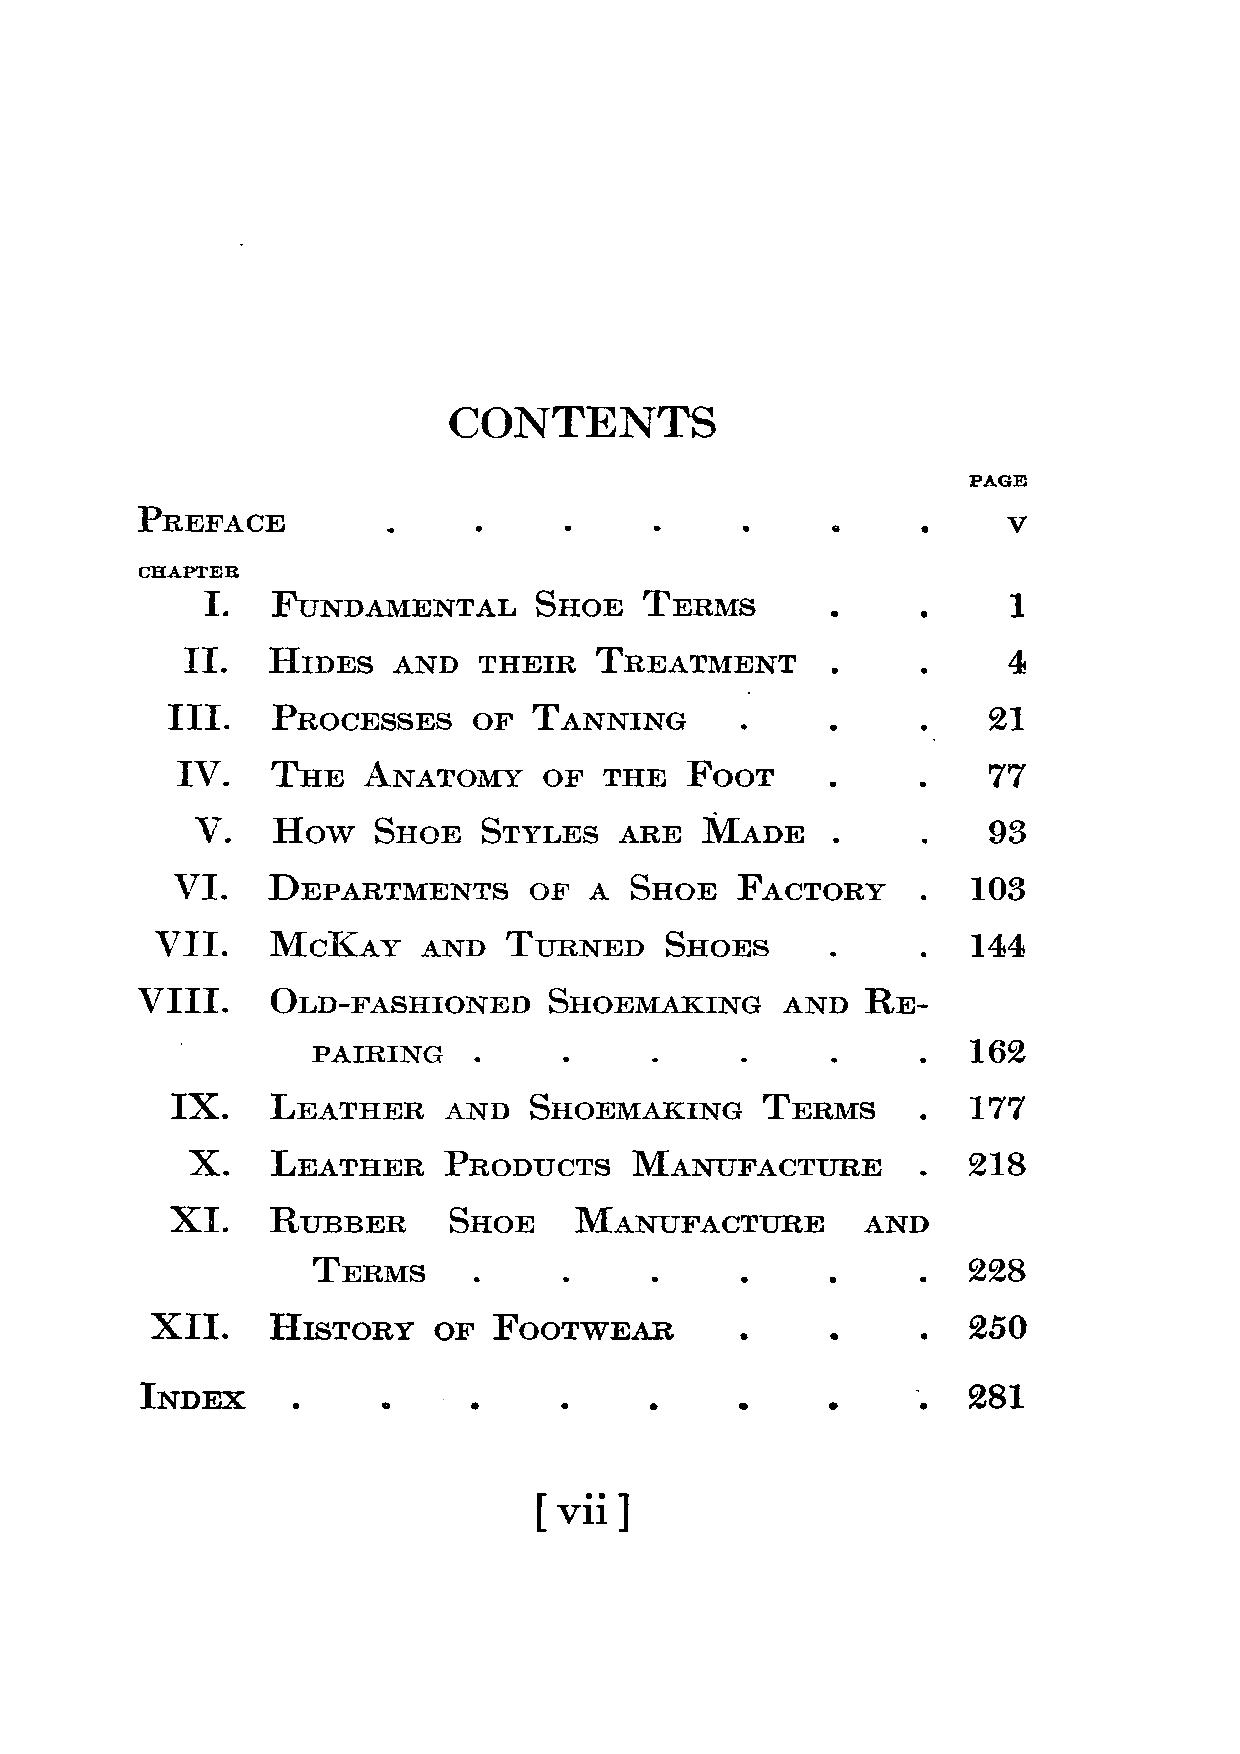TOC_chapter: (132, 982, 935, 1070), (162, 1198, 938, 1286), (166, 867, 895, 909), (174, 635, 807, 679), (169, 1084, 884, 1122), (197, 582, 772, 625), (150, 1304, 688, 1350), (169, 754, 777, 794), (185, 1142, 882, 1177), (191, 812, 807, 851), (153, 925, 772, 961), (161, 694, 688, 735), (130, 499, 297, 539), (133, 1373, 250, 1417)
TOC_pagenumber: (958, 1252, 1031, 1290), (966, 925, 1037, 960), (964, 1090, 1031, 1125), (965, 1311, 1033, 1345), (965, 1033, 1031, 1068), (964, 1149, 1029, 1181), (964, 1380, 1024, 1414), (968, 874, 1031, 905), (986, 815, 1027, 847), (981, 761, 1029, 786), (984, 705, 1027, 733), (1002, 641, 1033, 680), (1006, 509, 1035, 538), (1006, 588, 1027, 623)
chapter: (444, 397, 719, 444)
